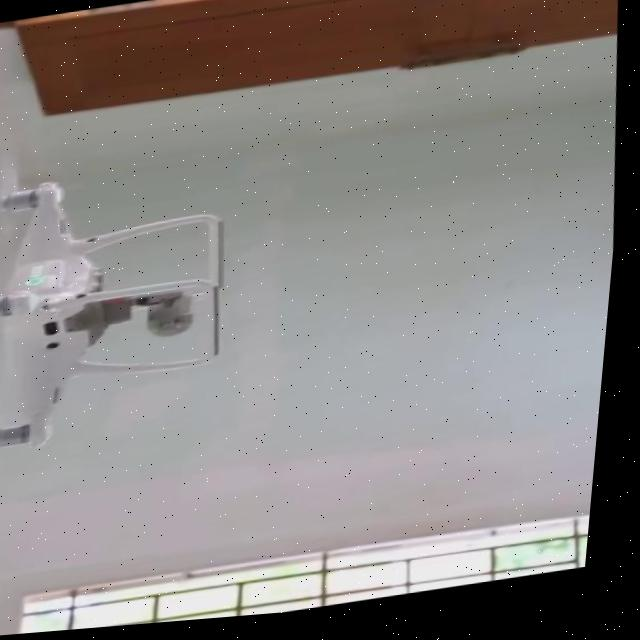drones: (0, 110, 291, 509)
